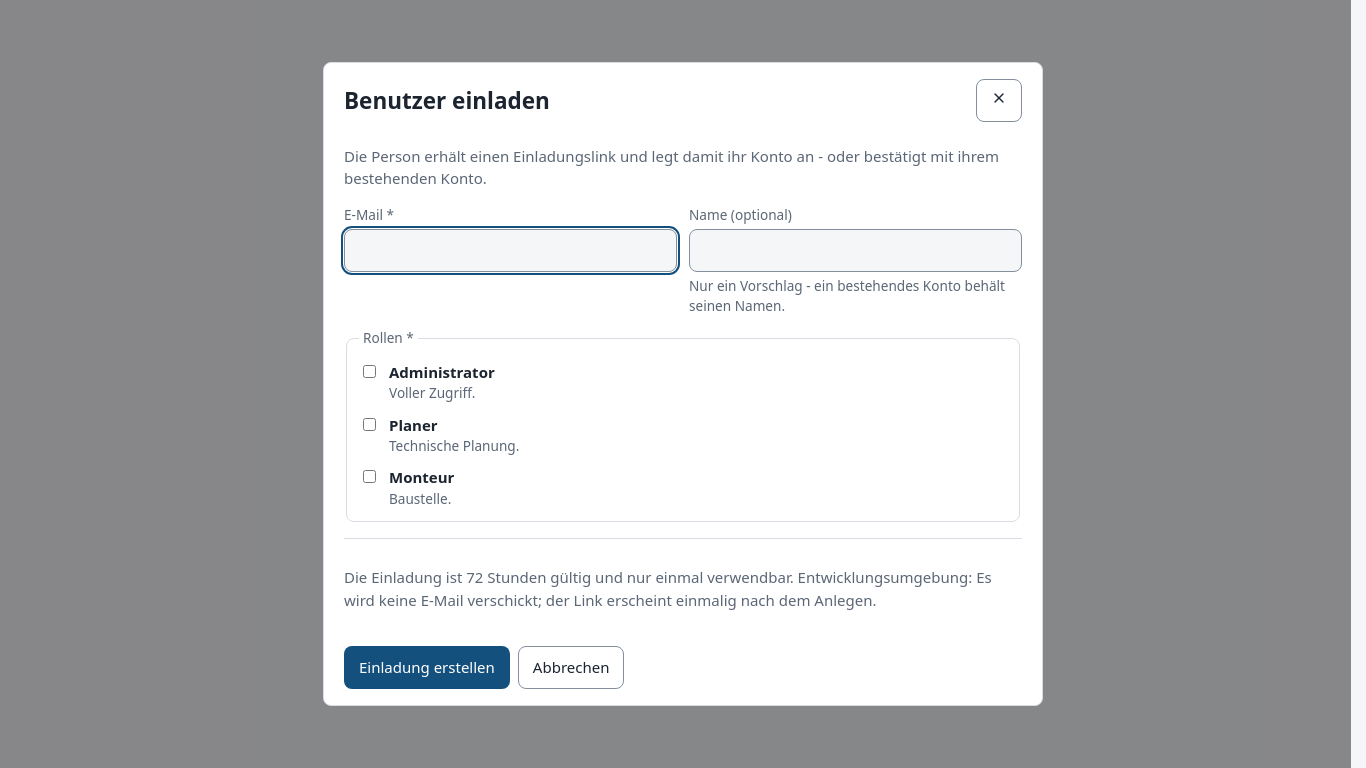
Test case: Benutzer einladen › behält die Eingaben bei einem Serverfehler
The image size is (1366, 768).
Type "da@test.example" into the field labelled "E-Mail *" at (510, 250), box [344,229,677,272]
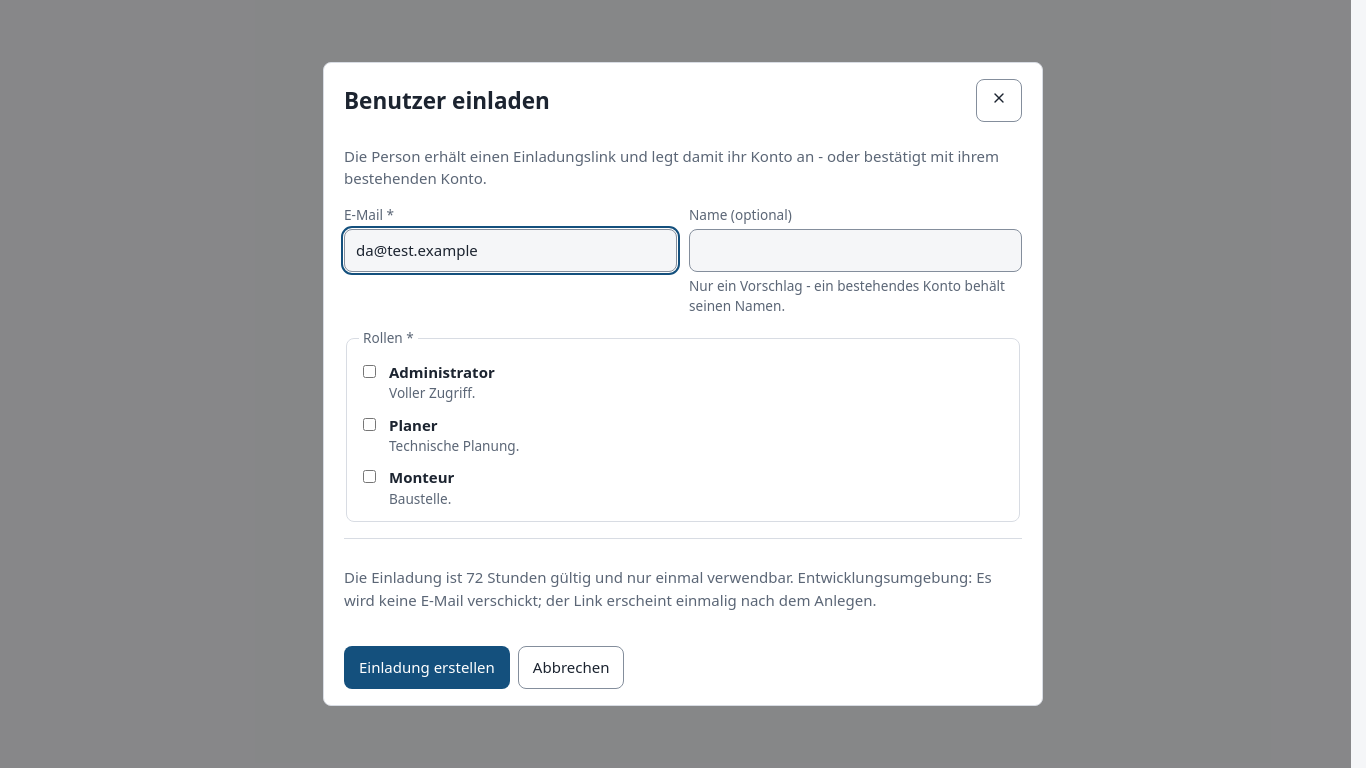
Click the checkbox labelled "Planer Technische Planung." at (370, 424), box [363,418,376,431]
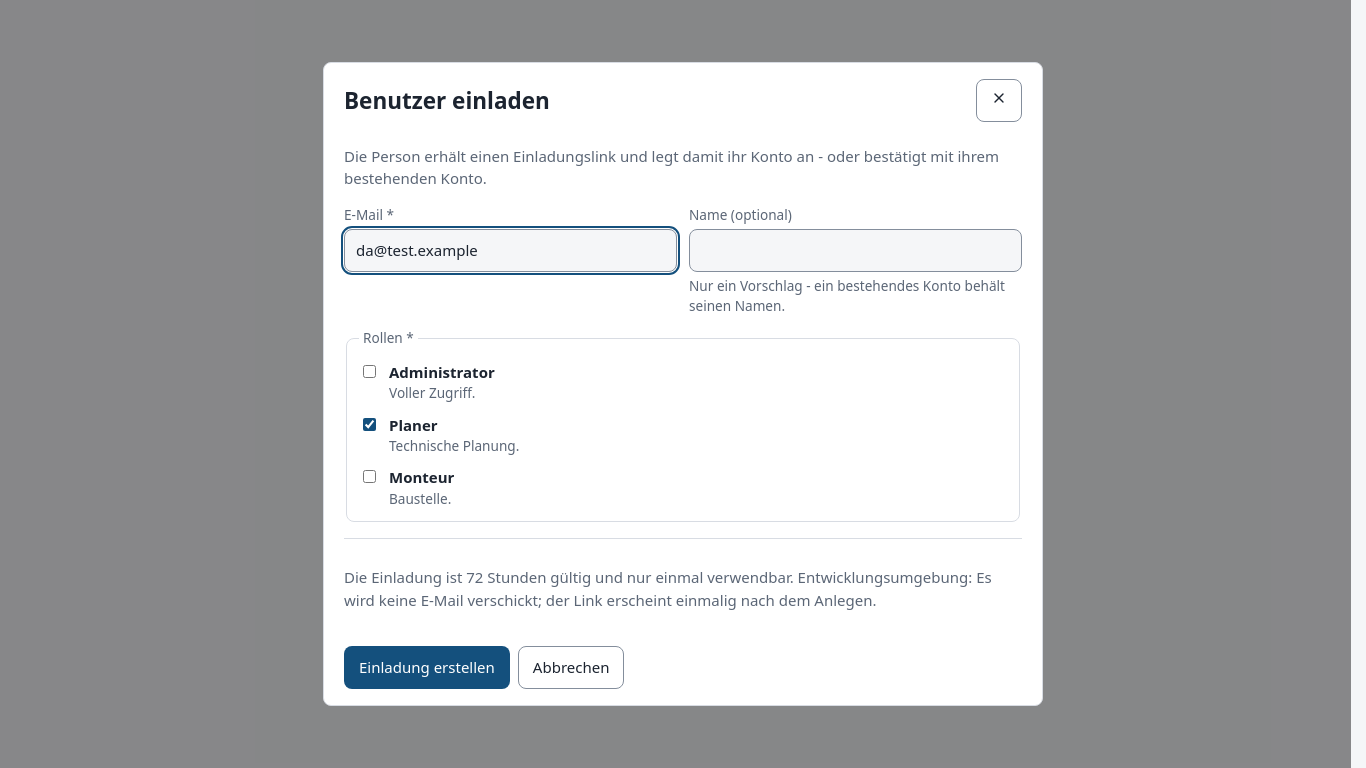
Click the button "Einladung erstellen" at (427, 668), box [344,646,510,689]
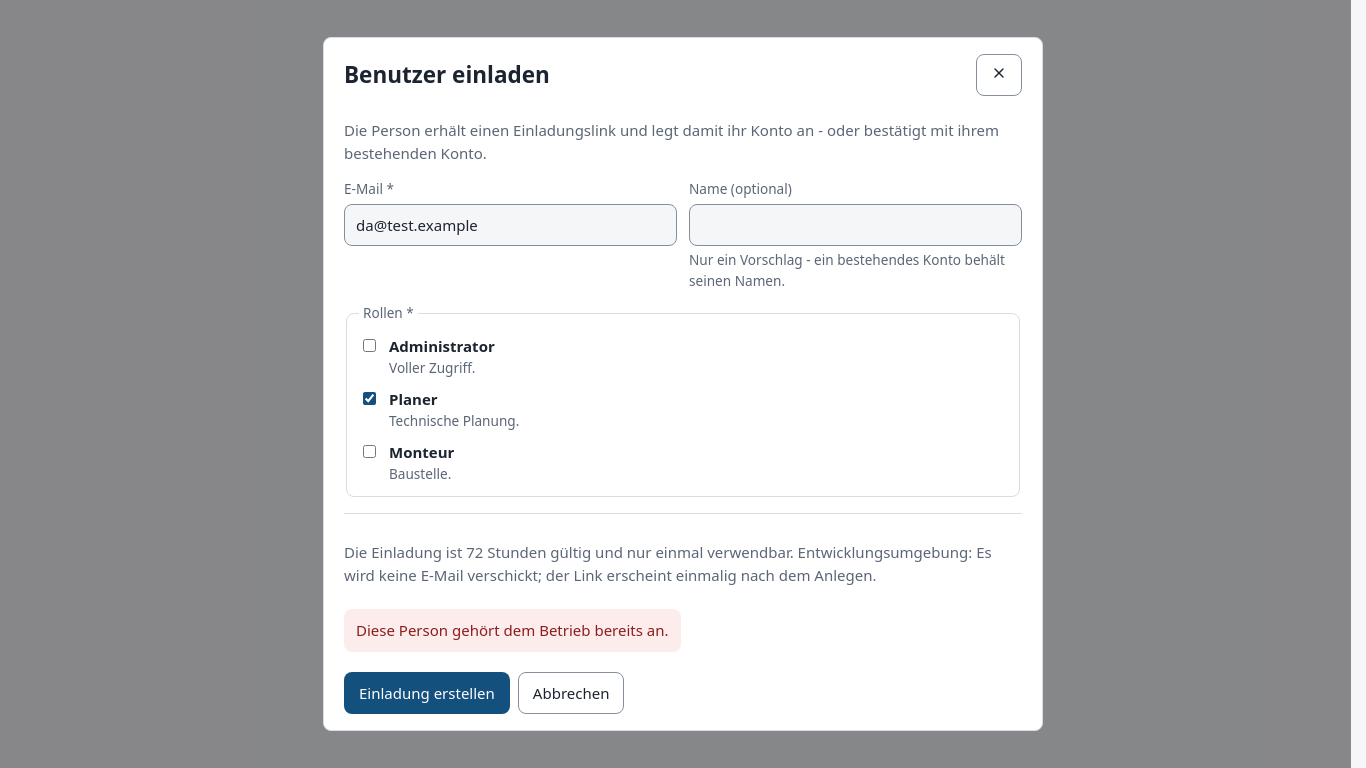
Expected: the checkbox labelled "Planer Technische Planung." is checked, [363,392,376,405]
Expected: the text "Diese Person gehört dem Betrieb bereits an." is shown, [344,609,680,652]
